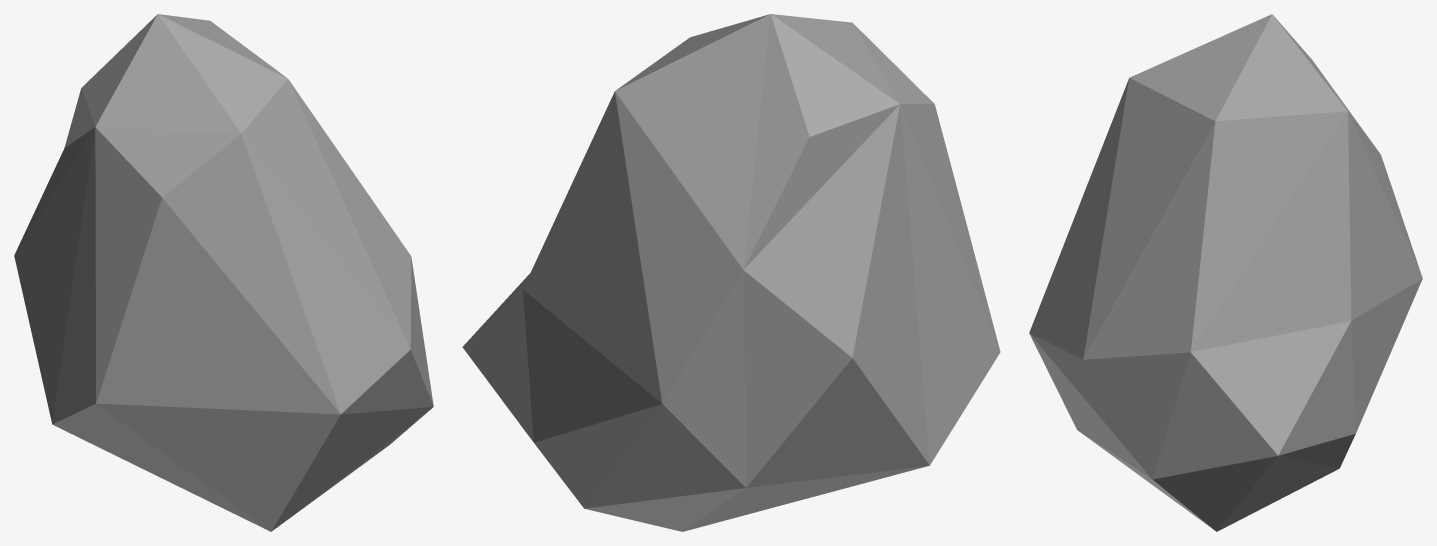
File: rock7.fbx
3 views of the same model, side by side, from view 1: azimuth 30°, elevation 25°; view 2: azimuth 150°, elevation 25°; view 3: azimuth 270°, elevation 25° (orthographic). The views are drawn at different scales.
Parts seen in each view (by area): view 1: rock7; view 2: rock7; view 3: rock7.
Boxes of the visible parts, x1,y1,x2,y2 form: rock7: (14,14,433,531); rock7: (462,14,1000,531); rock7: (1029,14,1422,531).
Bounding box in the file's own units: 78.96 × 92.54 × 74.02.
